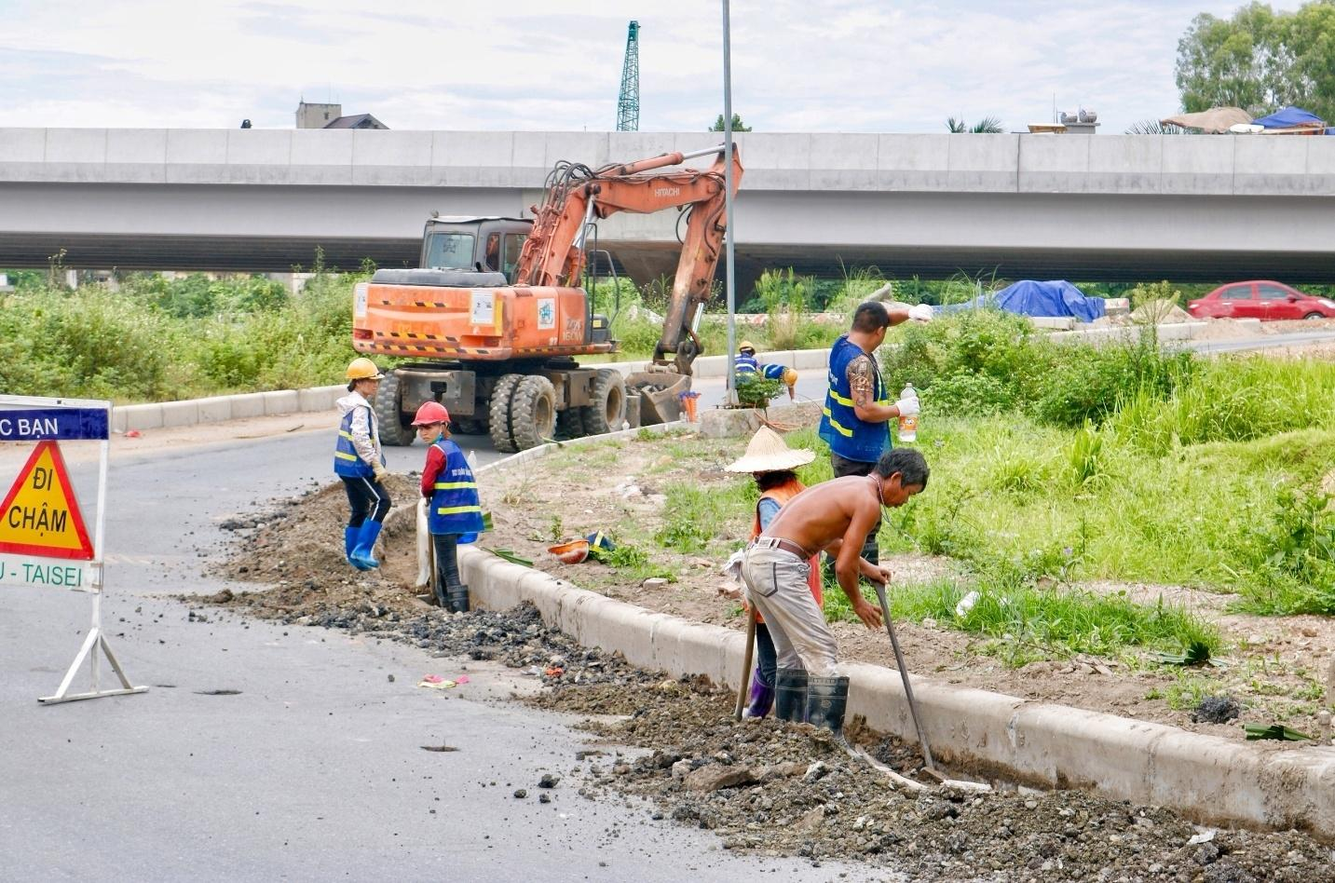Gloves: (890, 394, 921, 418), (371, 464, 388, 483)
Helmet: (410, 401, 450, 426), (345, 357, 385, 382)
Person: (739, 447, 930, 723), (817, 299, 933, 586), (409, 400, 484, 613), (333, 357, 391, 570)
Safety Boot: (811, 676, 848, 741), (773, 668, 808, 726), (340, 528, 379, 565)
Safety Vest: (817, 333, 892, 461), (424, 438, 483, 538), (333, 402, 382, 479)
bare-arms: (850, 597, 884, 629), (861, 555, 891, 588)
no-helmet: (877, 451, 926, 481), (851, 297, 889, 322)
no-vest: (763, 470, 879, 601)
